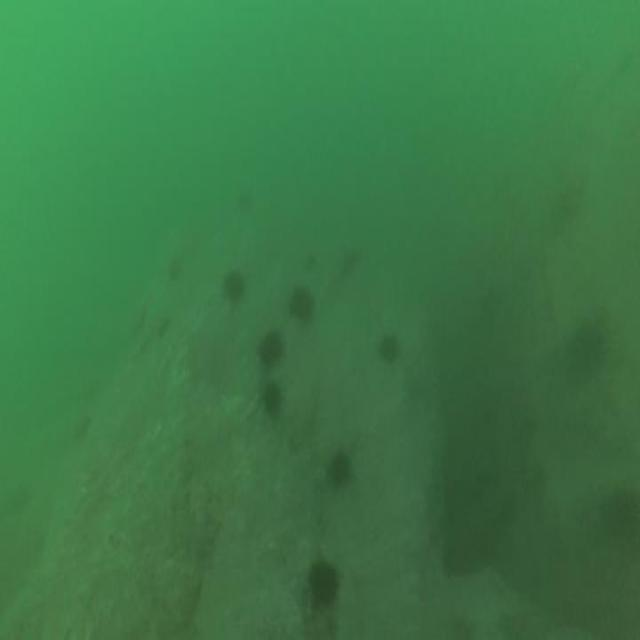echinus: (564, 314, 606, 390), (305, 555, 341, 616), (255, 326, 287, 376), (325, 442, 352, 498), (286, 280, 318, 327), (221, 262, 247, 310), (258, 376, 284, 424), (375, 329, 405, 368), (338, 240, 363, 278), (233, 182, 257, 218), (72, 408, 93, 448), (154, 308, 172, 345), (166, 251, 183, 288)
